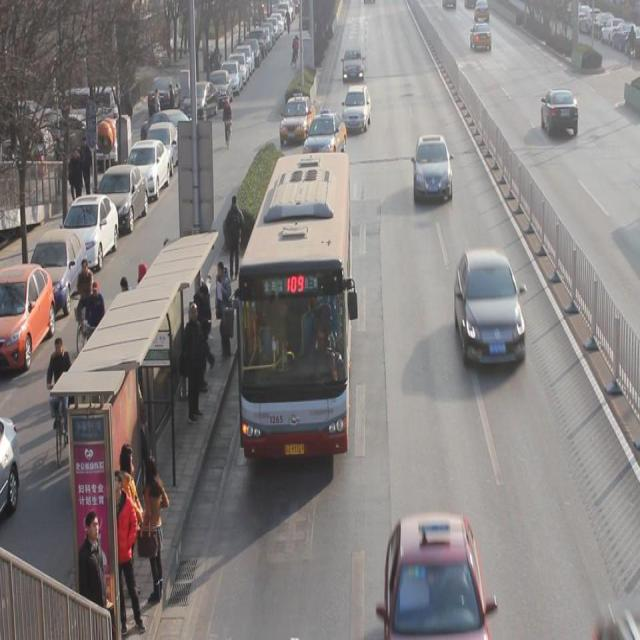car: (384, 514, 490, 640), (454, 248, 526, 365), (412, 132, 452, 202), (303, 110, 347, 158), (279, 96, 317, 146), (541, 89, 579, 137), (344, 85, 372, 133), (342, 49, 365, 84), (470, 22, 492, 54)
van: (235, 154, 348, 454)
